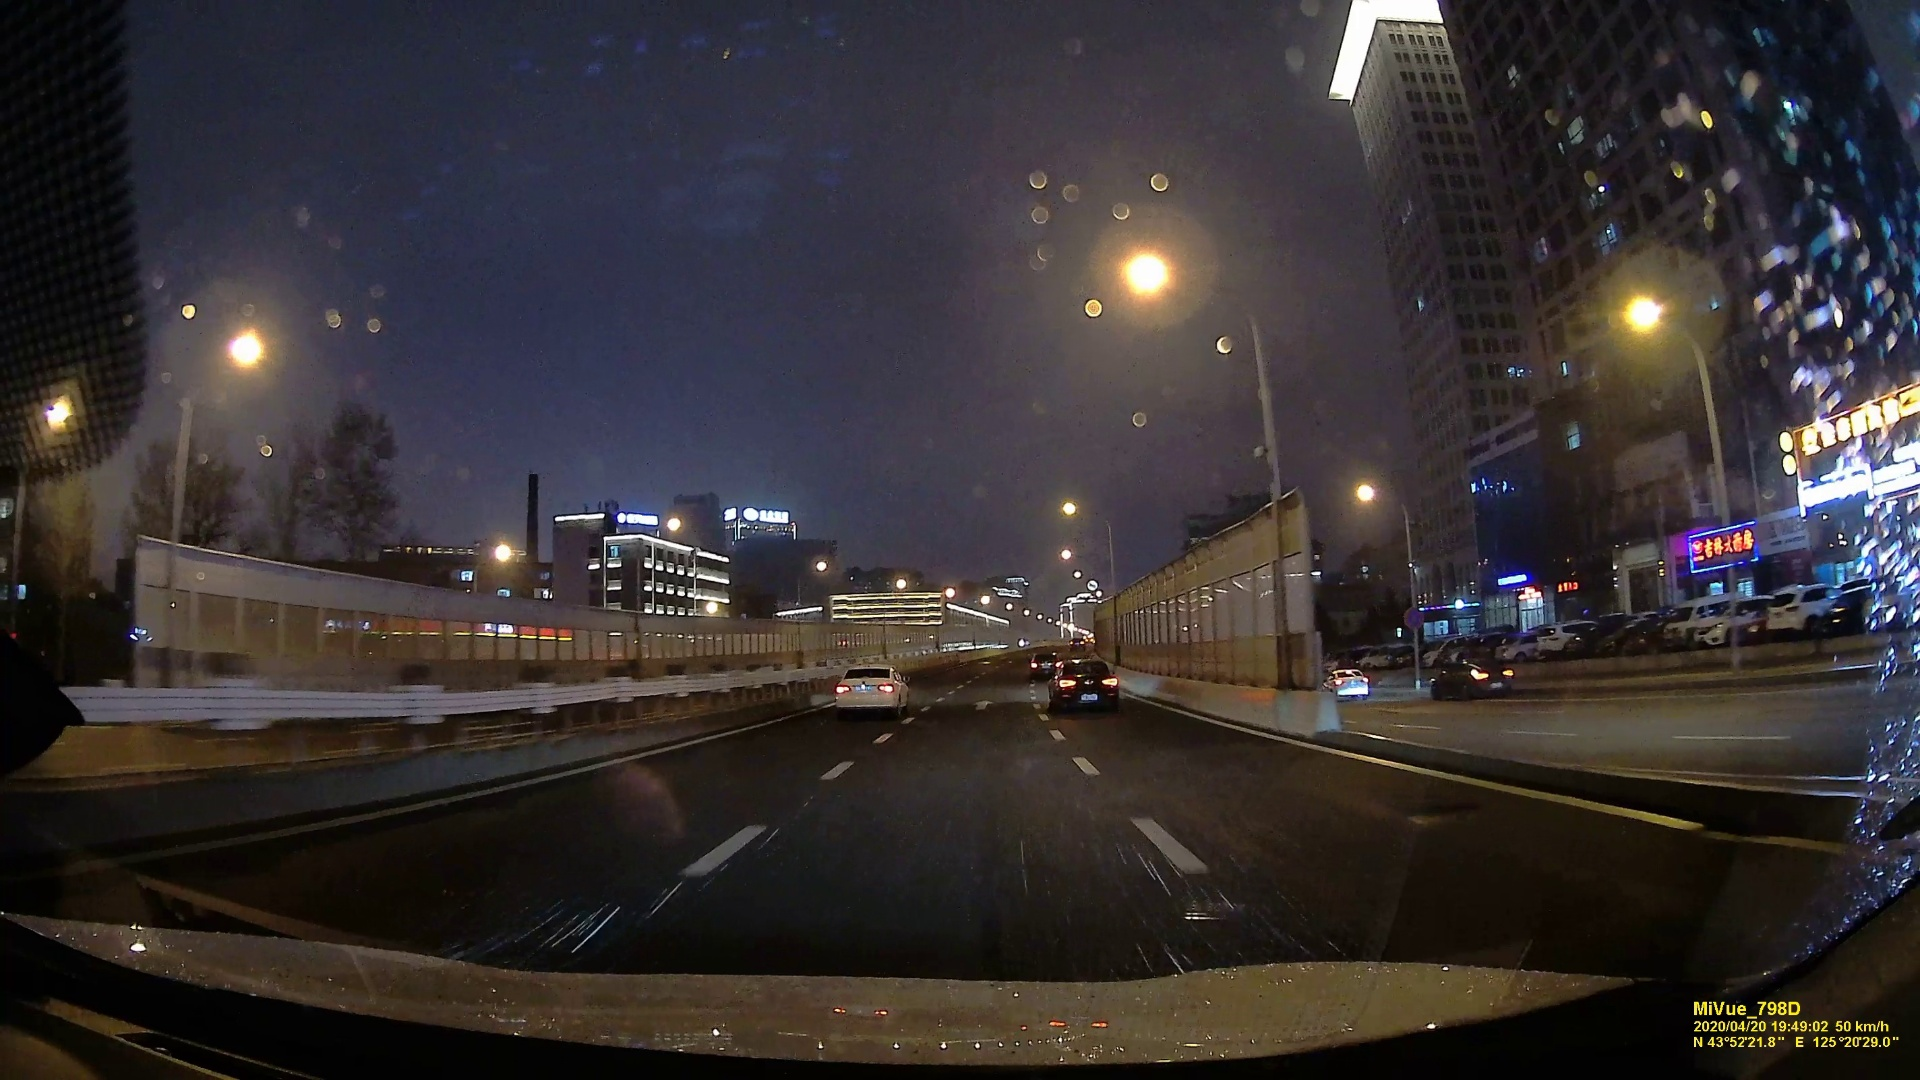vehicle: (1048, 658, 1120, 715), (832, 663, 907, 716), (1431, 658, 1515, 698), (1324, 669, 1371, 698)
